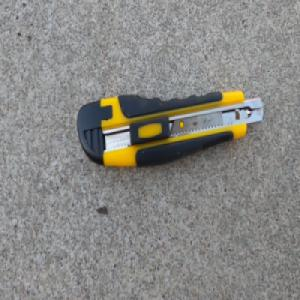Cutter: (76, 89, 264, 170)
